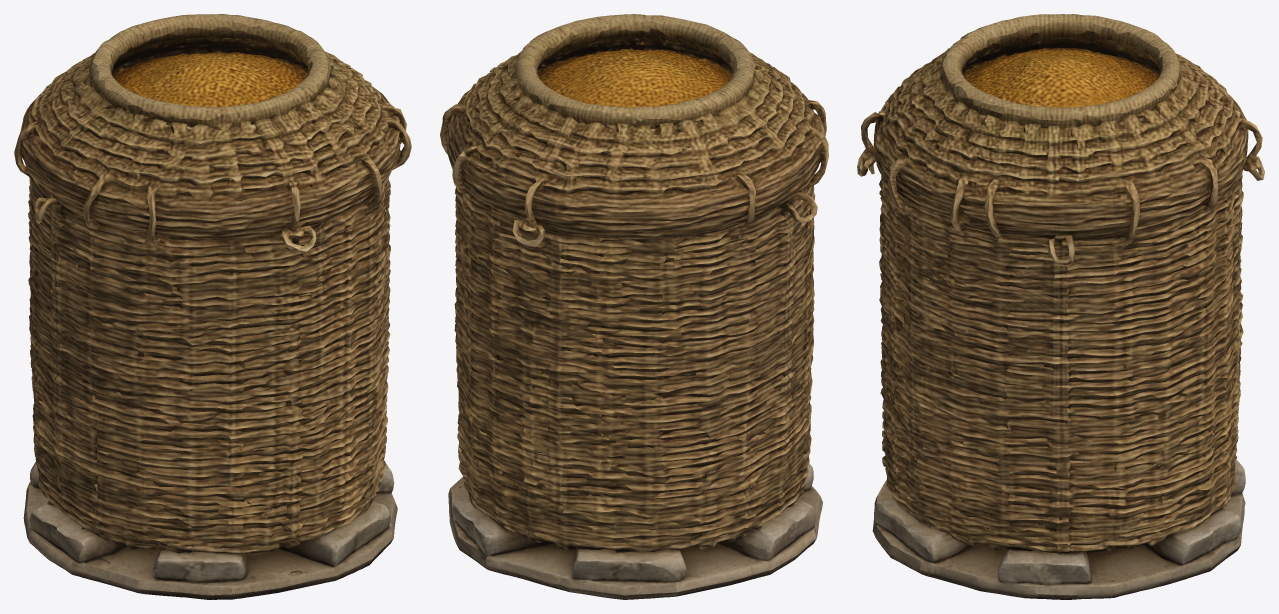
File: grain_bin.glb
3 views of the same model, side by side, from view 1: azimuth 30°, elevation 25°; view 2: azimuth 150°, elevation 25°; view 3: azimuth 270°, elevation 25° (orthographic).
Parts seen in each view (by area): view 1: world; view 2: world; view 3: world.
Part boxes in pixels (box(x1,y1,x2,y2)): world: box(14, 14, 411, 599); world: box(440, 14, 828, 599); world: box(857, 14, 1264, 599).
Bounding box in the file's own units: 0.482 × 0.6 × 0.4797.
1 material, 1 textured.
